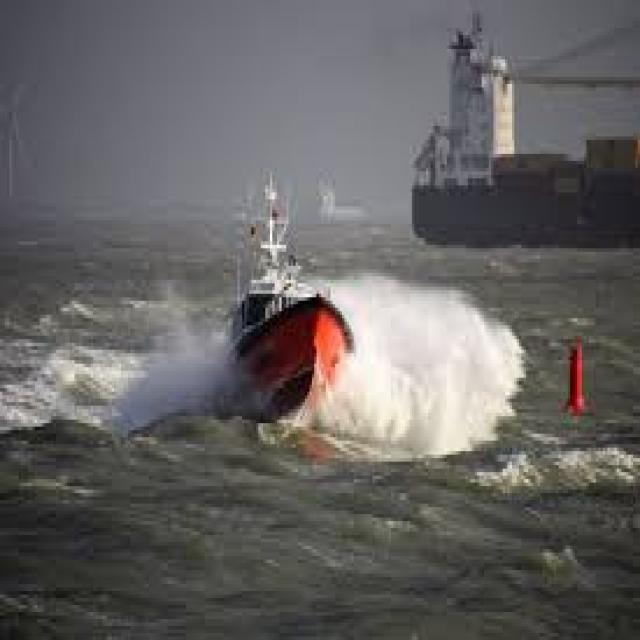buoy: (555, 330, 598, 420)
cargoship: (412, 12, 640, 240)
houseboat: (214, 150, 344, 422)
